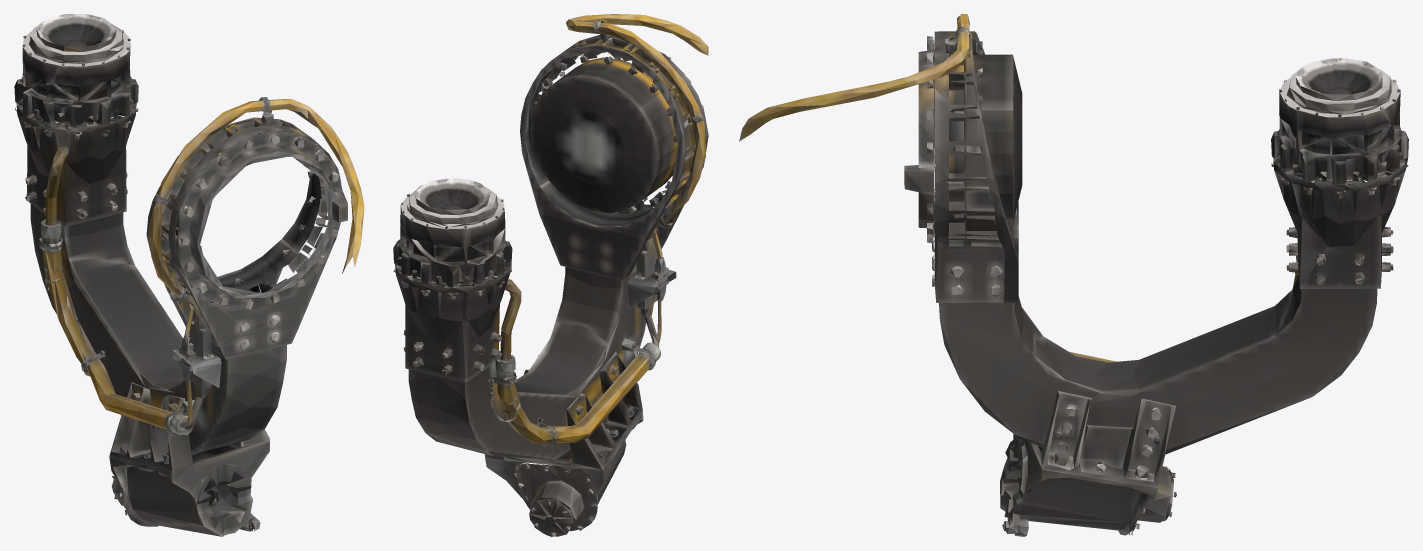
Rendered from Steer_LeftFront.gltf.
The picture shows the model from 3 angles, left to right: view 1: azimuth 30°, elevation 25°; view 2: azimuth 150°, elevation 25°; view 3: azimuth 270°, elevation 25°; orthographic projection. The views are drawn at different scales.
Visible parts, largest first — view 1: Mesh_0; view 2: Mesh_0; view 3: Mesh_0.
Boxes of the visible parts, <box> form: Mesh_0: <box>14,14,364,536</box>; Mesh_0: <box>393,14,708,536</box>; Mesh_0: <box>739,14,1408,536</box>.
Size of the model in its own units: 0.2214 by 0.5578 by 0.6462.
1 material, 1 textured.
